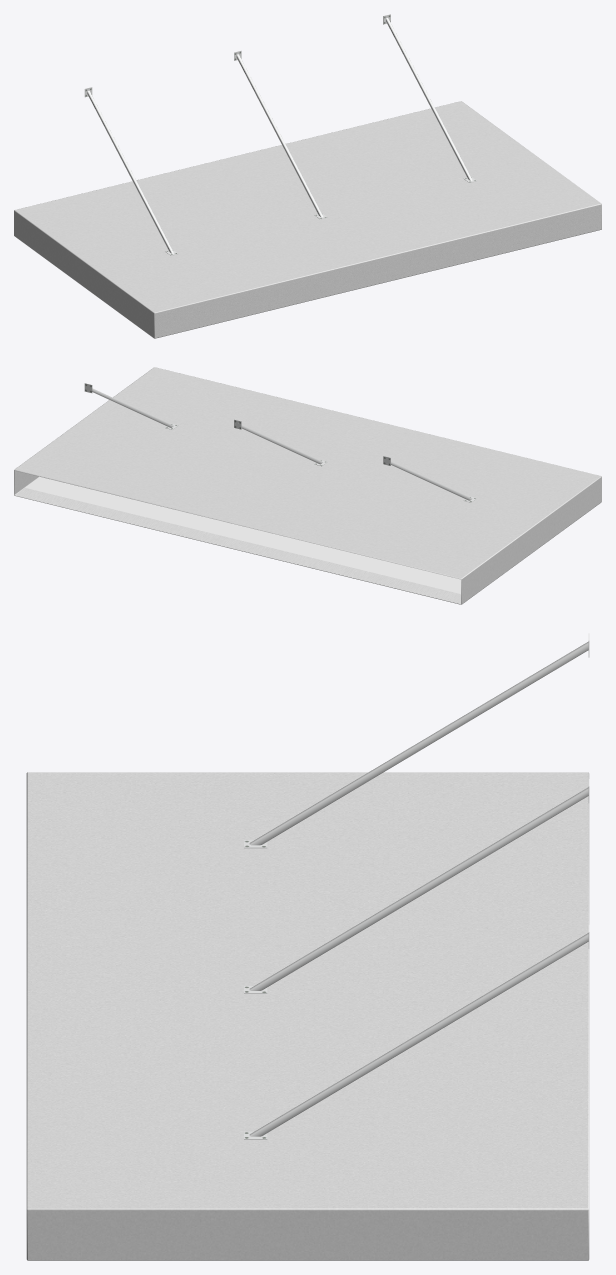
File: DoorAwning01_3.FBX
3 renders of one model, top to bottom at view 1: azimuth 30°, elevation 25°; view 2: azimuth 150°, elevation 25°; view 3: azimuth 270°, elevation 25°, orthographic. The views are drawn at different scales.
Parts seen in each view (by area): view 1: DoorAwning01; view 2: DoorAwning01, PanelLight01; view 3: DoorAwning01.
Part boxes in pixels (x1,y1,x2,y2): DoorAwning01: (14,14,601,338); DoorAwning01: (14,367,601,604); PanelLight01: (25,477,460,593); DoorAwning01: (26,633,589,1260).
Bounding box in the file's own units: 680 × 197 × 370.
